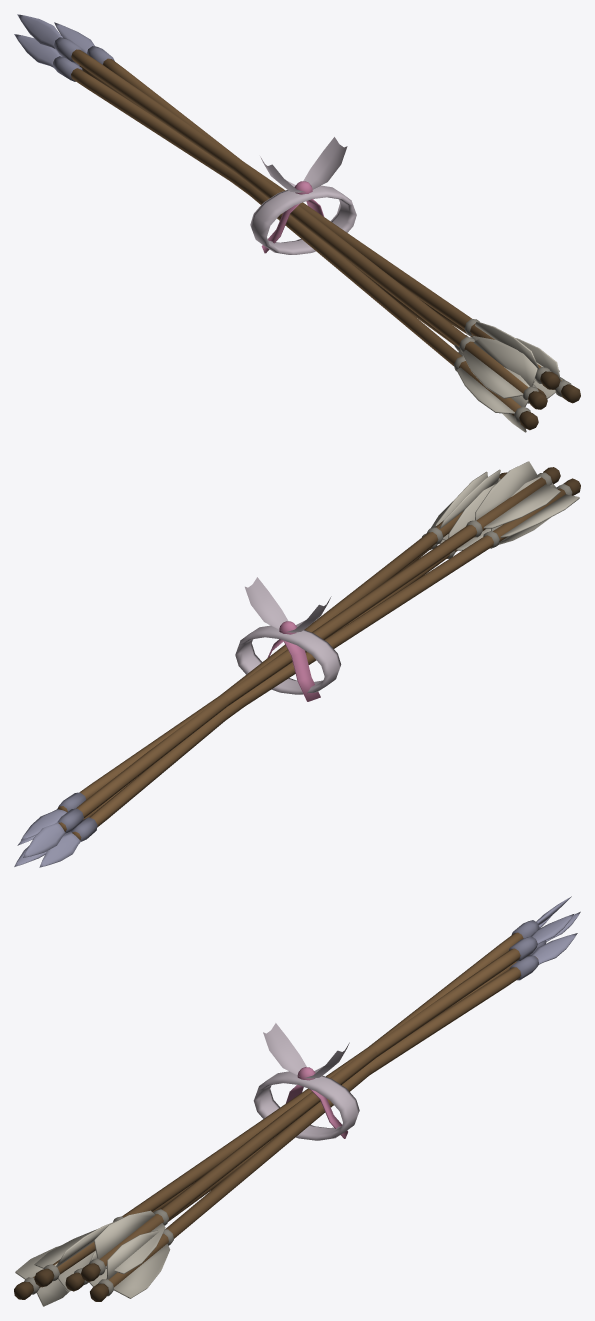
The model's file is arrow_bundle.glb.
3 renders of one model, top to bottom at view 1: azimuth 30°, elevation 25°; view 2: azimuth 150°, elevation 25°; view 3: azimuth 330°, elevation 25°, orthographic.
Parts seen in each view (by area): view 1: arrow_bundle; view 2: arrow_bundle; view 3: arrow_bundle.
Part boxes in pixels (bbox=[...]): arrow_bundle: bbox=[14, 14, 580, 432]; arrow_bundle: bbox=[14, 461, 580, 867]; arrow_bundle: bbox=[14, 896, 580, 1306].
Size of what is drawn, in the model's own units: 0.0949 by 0.0904 by 0.8672.
